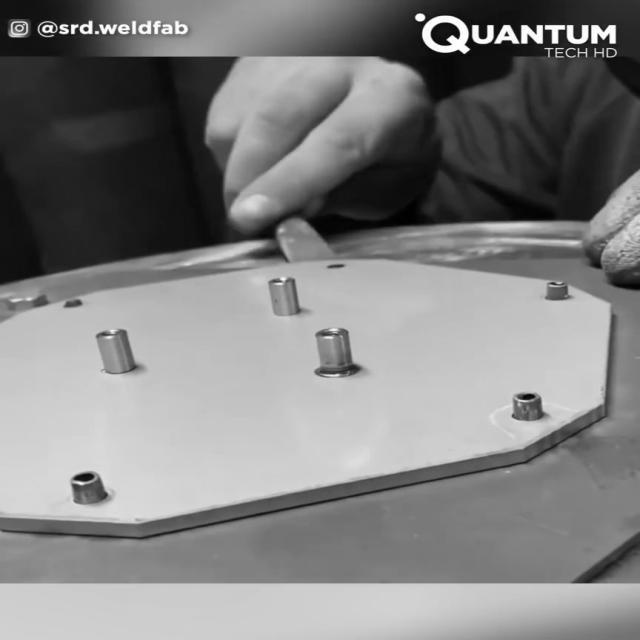Good Welding: (315, 368, 358, 380)
